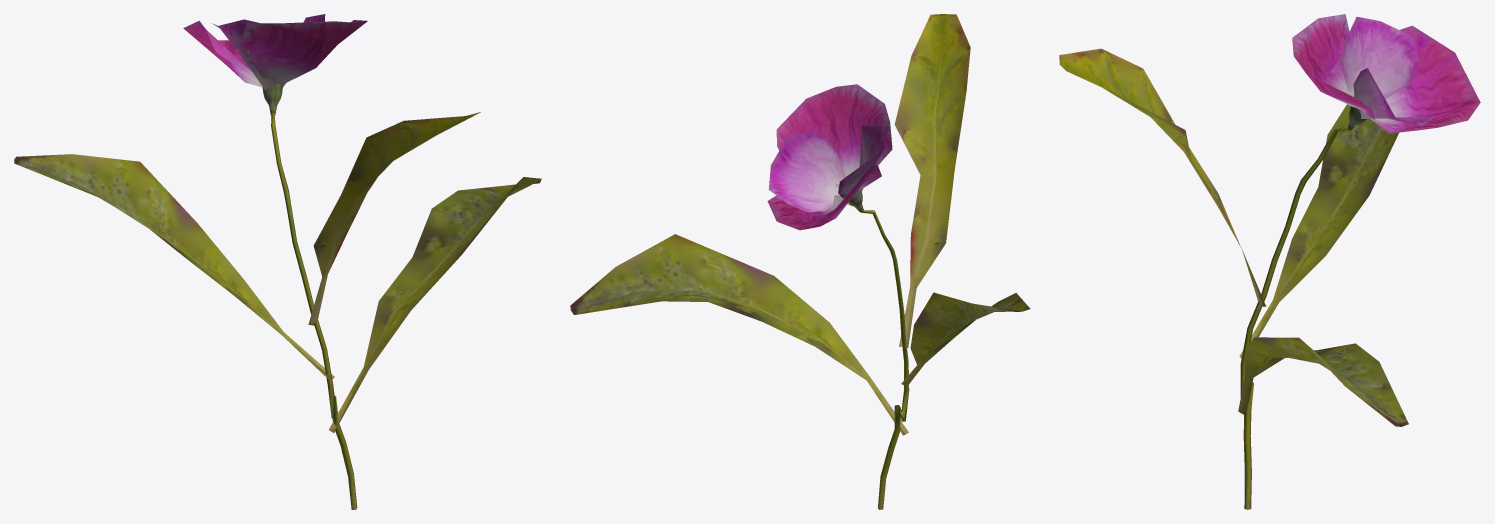
The model's file is Poppy_baby_short_magenta.glb.
3 views of the same model, side by side, from view 1: azimuth 30°, elevation 25°; view 2: azimuth 150°, elevation 25°; view 3: azimuth 270°, elevation 25° (orthographic). The views are drawn at different scales.
Visible parts, largest first — view 1: baby poppy; view 2: baby poppy; view 3: baby poppy.
Boxes of the visible parts, x1=… form: baby poppy: x1=14, y1=14, x2=541, y2=509; baby poppy: x1=570, y1=14, x2=1030, y2=509; baby poppy: x1=1059, y1=14, x2=1480, y2=509.
Size of the model in its own units: 1.32 by 1.17 by 0.9442.
Materials: 1 (1 with a texture image).
